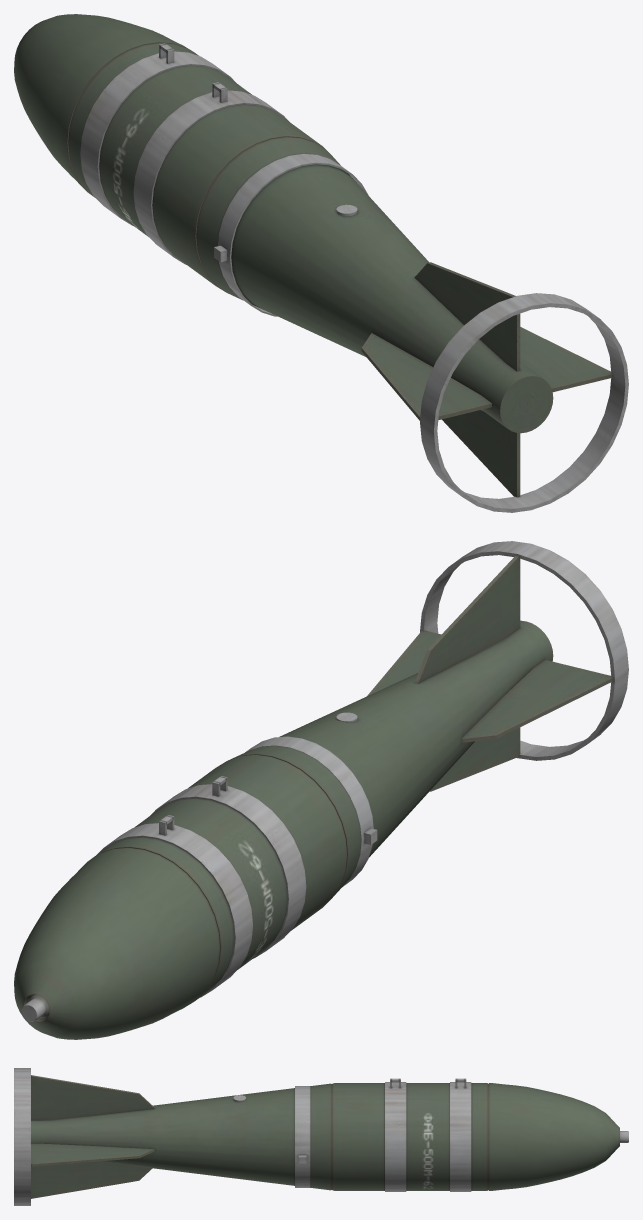
The model's file is w_fab500.glb.
3 views of the same model, one above another, from view 1: azimuth 30°, elevation 25°; view 2: azimuth 150°, elevation 25°; view 3: azimuth 270°, elevation 25° (orthographic). The views are drawn at different scales.
Visible parts, largest first — view 1: body|F50_body, body|F50_steel; view 2: body|F50_body, body|F50_steel; view 3: body|F50_body, body|F50_steel.
Boxes of the visible parts, bbox=[...] form: body|F50_body: bbox=[14, 14, 612, 497]; body|F50_steel: bbox=[80, 43, 628, 512]; body|F50_body: bbox=[14, 555, 613, 1039]; body|F50_steel: bbox=[22, 541, 628, 1021]; body|F50_body: bbox=[31, 1075, 619, 1198]; body|F50_steel: bbox=[14, 1068, 628, 1205].
Size of the model in its own units: 0.55 by 0.55 by 2.45.
Materials: 2 (2 with a texture image).
